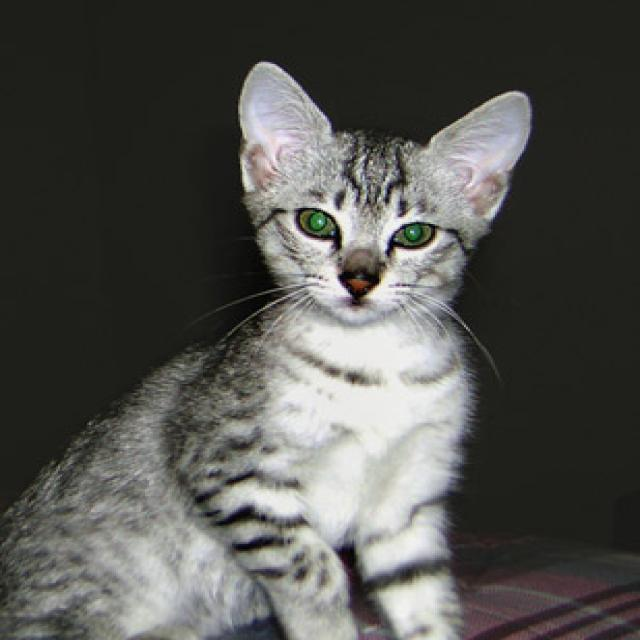Egyptian_Mau: (228, 54, 535, 327)
